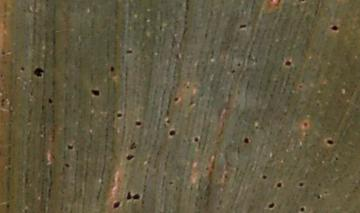tarspot: (32, 65, 45, 78), (90, 88, 100, 97), (112, 200, 121, 209), (168, 128, 177, 137), (284, 58, 293, 67), (133, 119, 143, 127), (132, 193, 141, 201), (126, 153, 135, 161), (243, 136, 251, 145), (325, 138, 334, 146), (329, 24, 338, 32), (174, 52, 182, 60), (267, 202, 276, 209), (188, 98, 195, 107), (126, 191, 132, 201), (47, 97, 55, 104), (66, 143, 74, 150), (108, 65, 115, 73), (125, 47, 133, 54), (276, 181, 283, 189), (116, 112, 123, 119), (165, 118, 172, 125), (230, 68, 237, 75), (253, 124, 260, 131), (20, 65, 26, 73), (130, 142, 136, 150), (238, 23, 246, 29), (5, 202, 11, 210), (223, 172, 229, 180), (193, 136, 199, 143), (302, 121, 308, 128), (236, 61, 242, 68), (168, 179, 174, 186), (63, 163, 71, 168), (174, 96, 180, 102), (261, 174, 267, 180), (316, 194, 322, 200), (1, 50, 7, 56), (299, 181, 304, 188), (334, 156, 339, 162), (300, 206, 304, 213), (1, 98, 5, 104)
